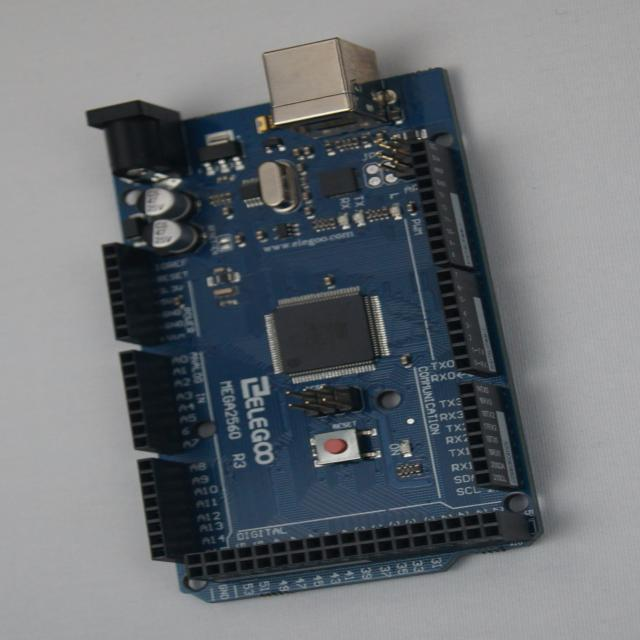Arduino Mega 2560 -Blue-: (87, 39, 543, 603)
